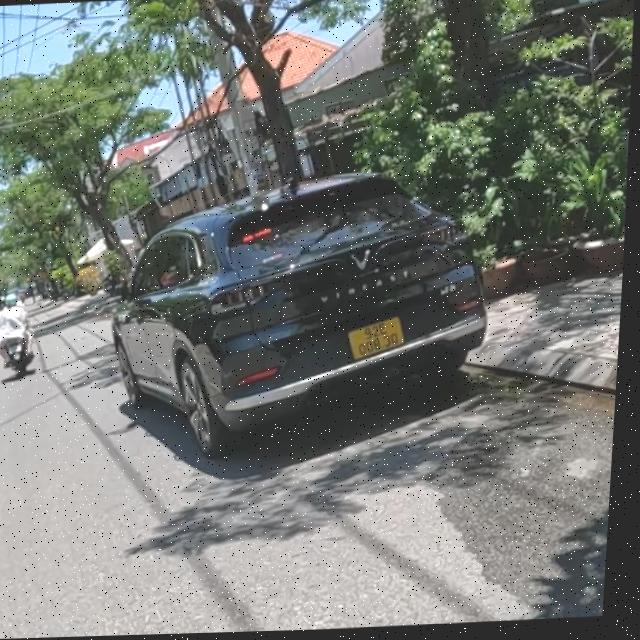car: (92, 164, 504, 472)
plate: (336, 315, 411, 360)
